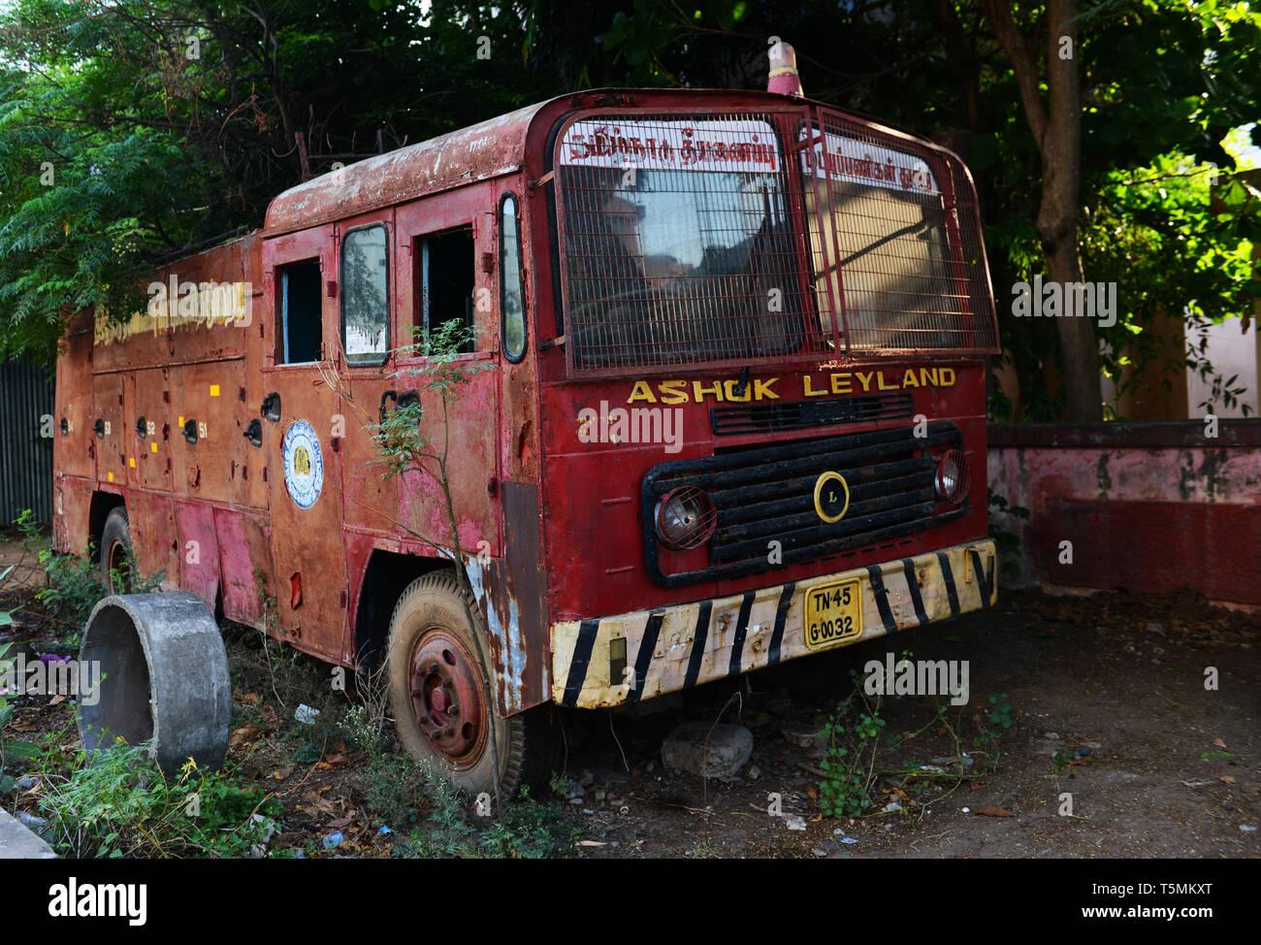Fire-engine: (55, 89, 1090, 786)
